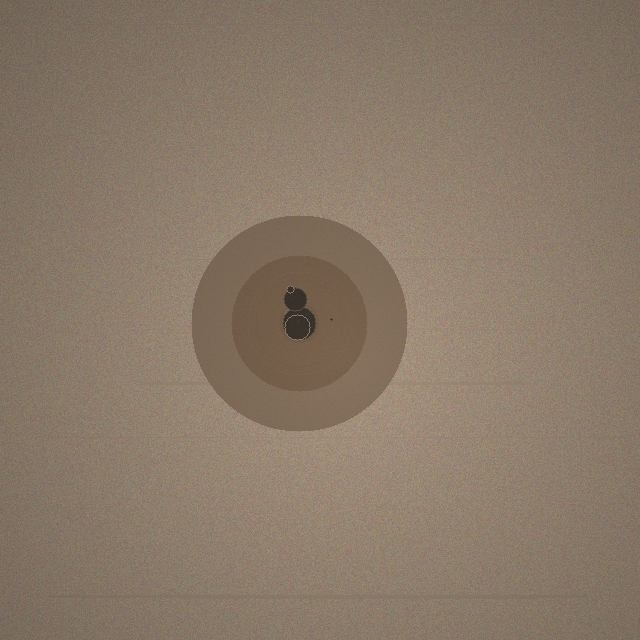shrinkage: (191, 215, 407, 431)
